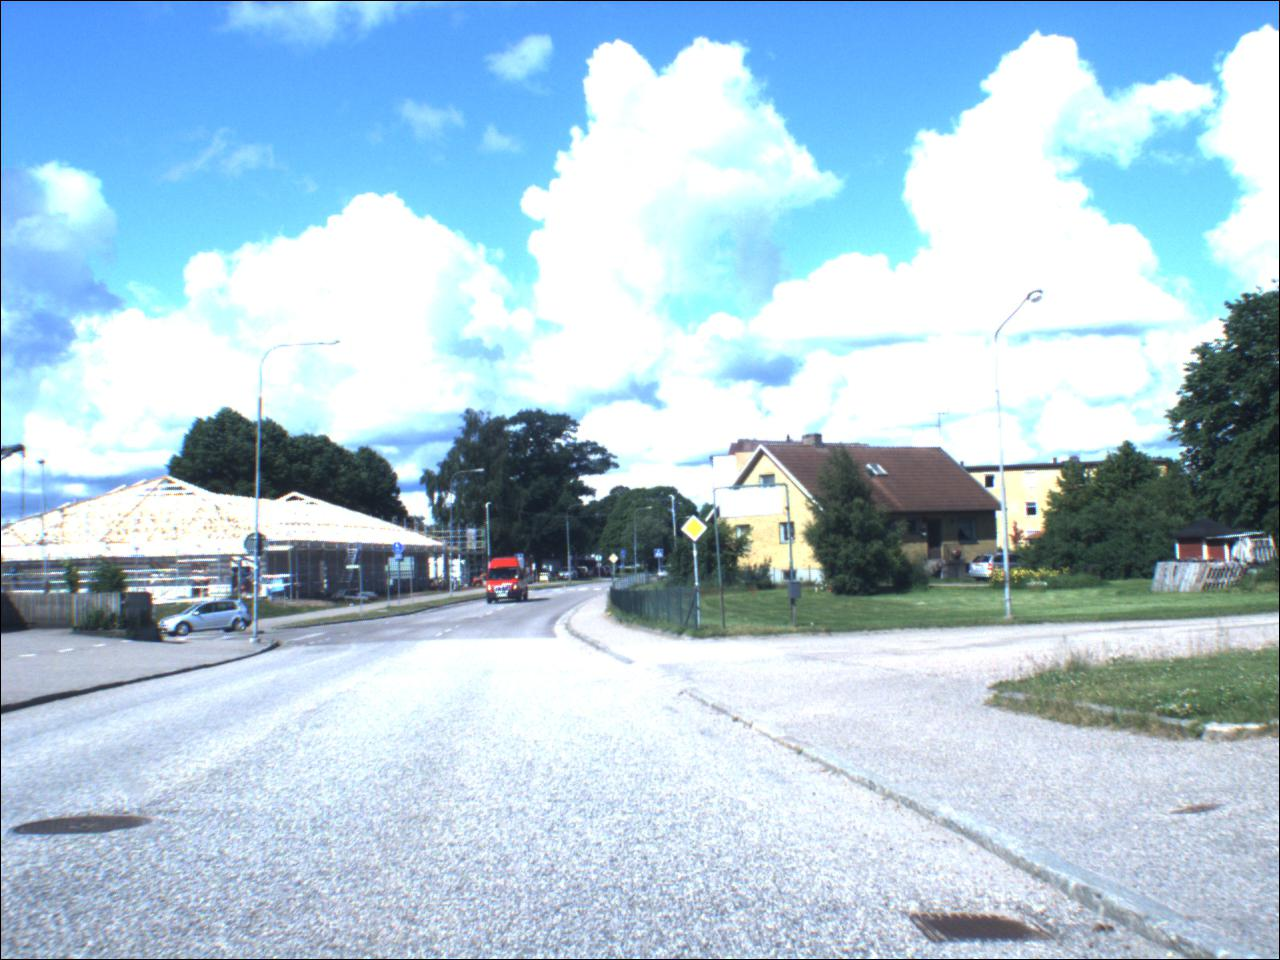PEDESTRIAN_CROSSING: (657, 551, 667, 560)
PRIORITY_ROAD: (682, 517, 710, 544), (611, 554, 621, 566)
